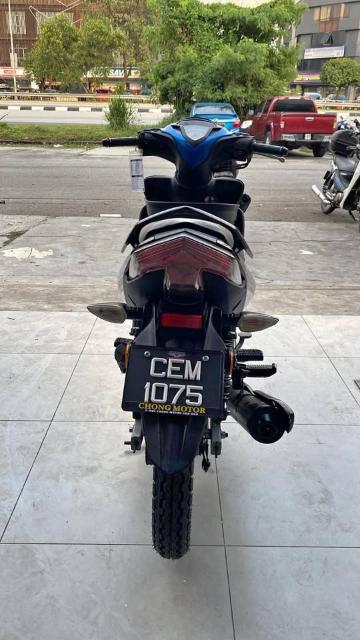License_Plate: (122, 345, 226, 419)
motorcycle: (87, 116, 295, 560)
